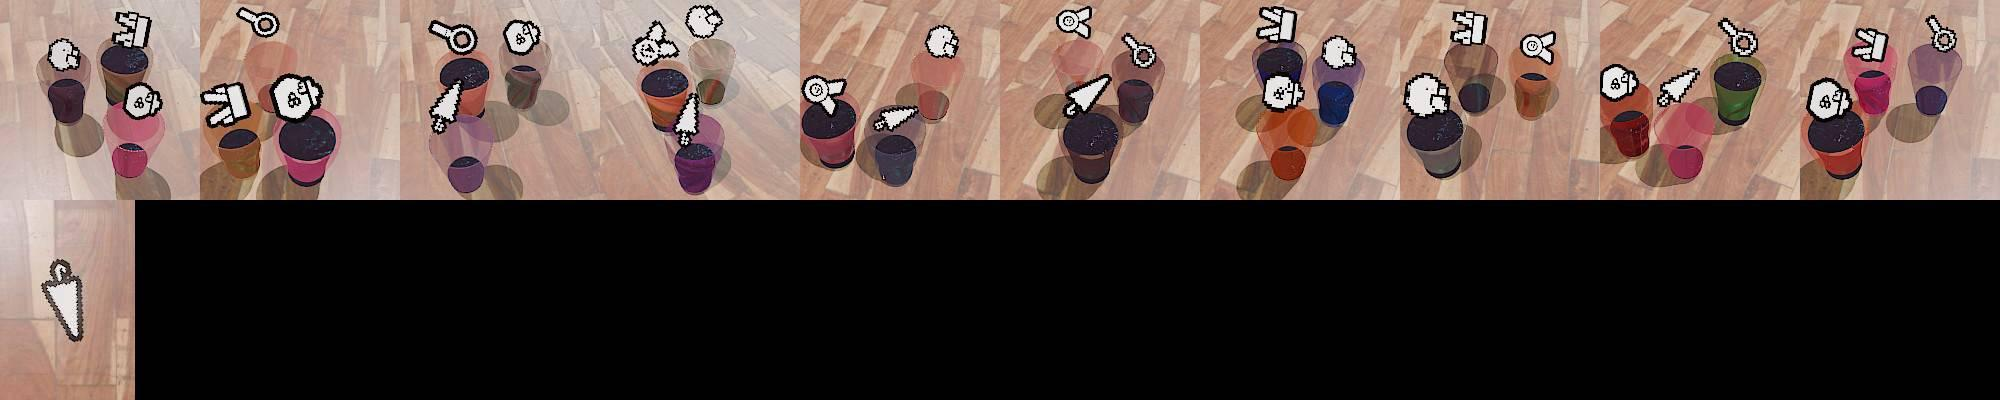icon: (40, 257, 85, 344), (269, 72, 324, 120), (200, 80, 253, 127), (630, 17, 680, 66), (1063, 71, 1112, 119), (1402, 71, 1450, 119), (428, 79, 466, 134), (1805, 76, 1851, 121), (1655, 66, 1702, 110), (428, 19, 478, 58), (801, 74, 846, 117), (674, 88, 705, 148), (1717, 17, 1759, 60), (1599, 63, 1641, 103), (121, 81, 162, 120), (1262, 73, 1304, 111), (235, 6, 280, 41), (1257, 5, 1297, 44), (872, 102, 921, 133), (114, 11, 152, 50), (502, 19, 541, 57), (1450, 8, 1487, 46), (1318, 34, 1357, 70), (1122, 31, 1158, 70), (684, 4, 723, 40), (1852, 27, 1890, 63), (1520, 30, 1558, 65), (1924, 15, 1958, 53), (1054, 5, 1092, 39), (924, 23, 959, 59), (47, 37, 82, 72)
